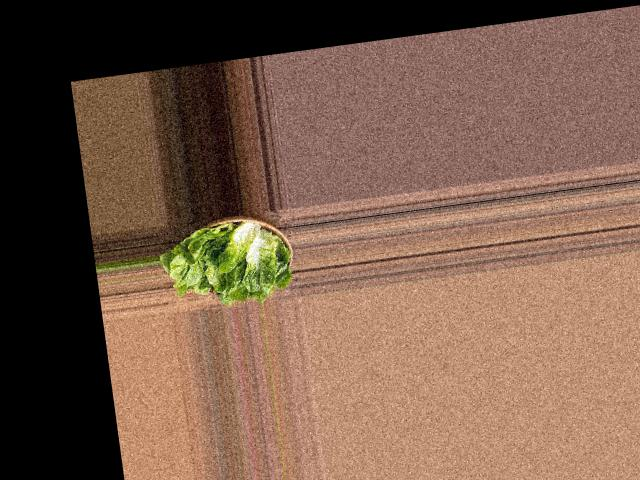lettuce: (158, 209, 303, 310)
